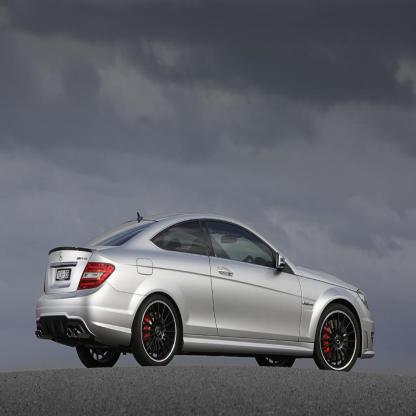Car: (36, 213, 376, 373)
